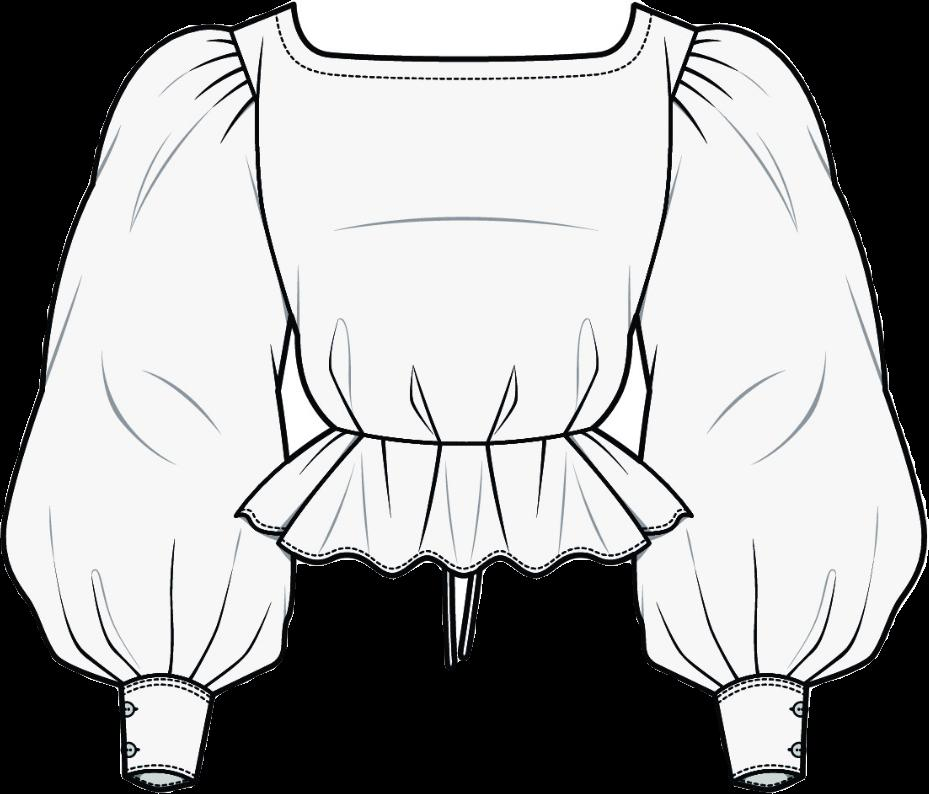Bodice: (231, 0, 703, 578)
Neckline: (288, 0, 640, 67), (324, 420, 604, 444)
Sleeve: (629, 21, 927, 793), (0, 22, 295, 792)
Sleeveline: (633, 23, 707, 324), (229, 23, 296, 321), (116, 670, 224, 704), (703, 670, 810, 701)
Waistline: (234, 511, 697, 581)
